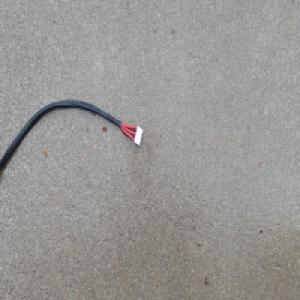Wire: (0, 98, 145, 179)
